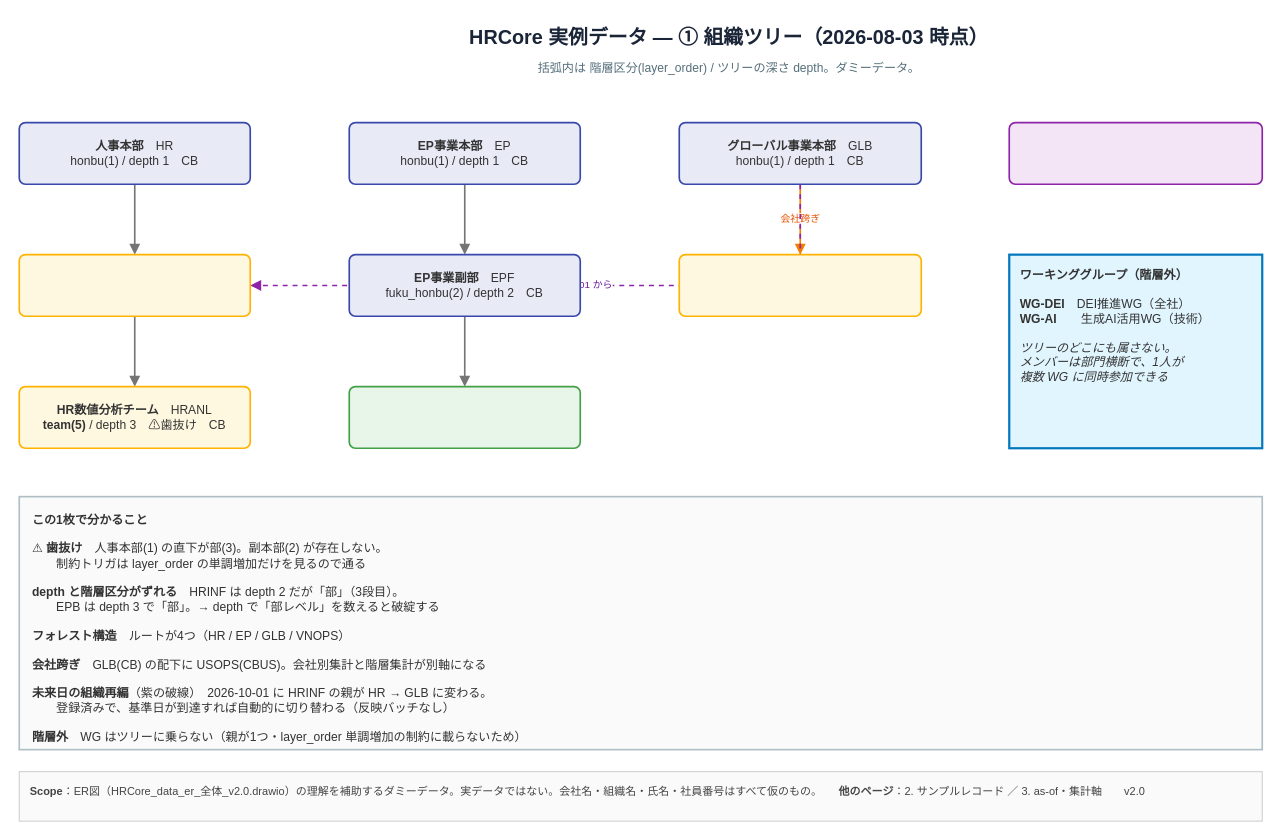
This 1283x840 diagram has some shape labels left out. Each missing label, with the centre of its shape:
"Cybozu US USOPS bu(3) / depth 2 ⚠歯抜け CBUS" goes at (800,285).
"Cybozu Vietnam VNOPS honbu(1) / depth 1 CBVN （独立ルート）" goes at (1135,153).
"EP事業部 EPB bu(3) / depth 3 歯抜けなし CB" goes at (464,417).
"人事インフラ部 HRINF bu(3) / depth 2 ⚠歯抜け CB" goes at (134,285).
